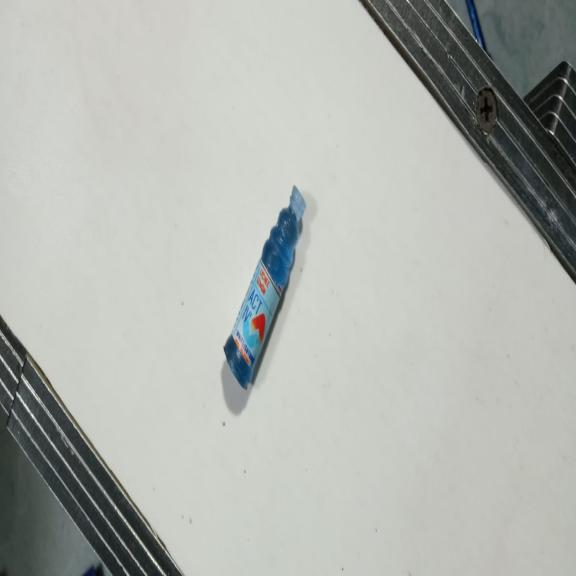Plastik: (224, 182, 307, 392)
